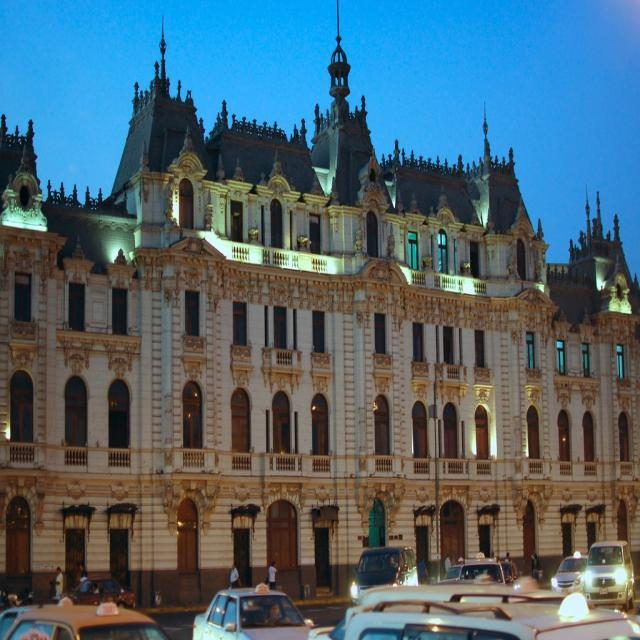car: (584, 538, 634, 607), (553, 551, 590, 590)
